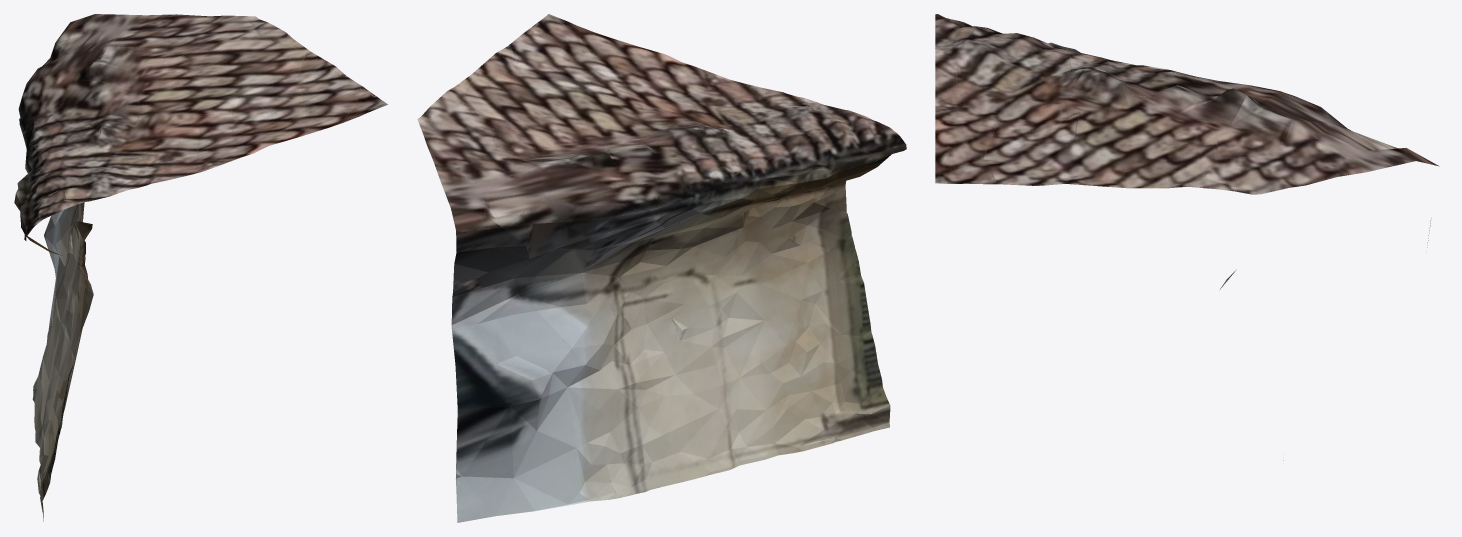
The picture shows the model from 3 angles, left to right: view 1: azimuth 30°, elevation 25°; view 2: azimuth 150°, elevation 25°; view 3: azimuth 270°, elevation 25°; orthographic projection. The views are drawn at different scales.
Bounding box in the file's own units: 3.26 × 2.87 × 3.26.
4 materials, 4 textured.
